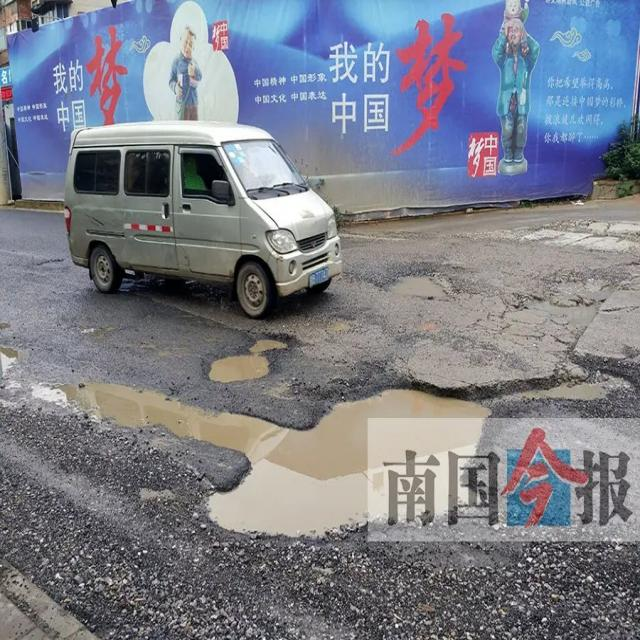Pothole: (35, 367, 635, 543), (204, 333, 293, 384)
